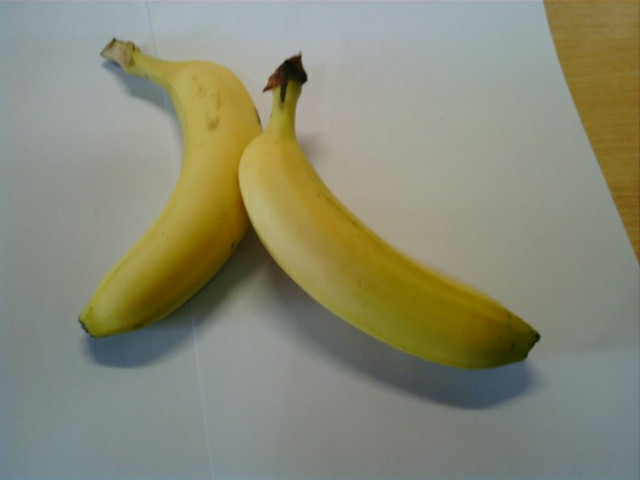fresh_banana: (238, 121, 535, 369), (77, 49, 261, 340)
